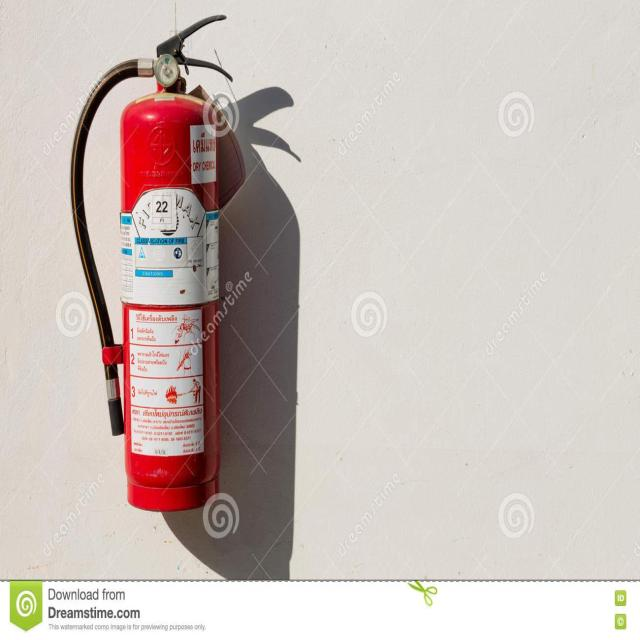fire_extinguisher: (68, 11, 234, 513)
